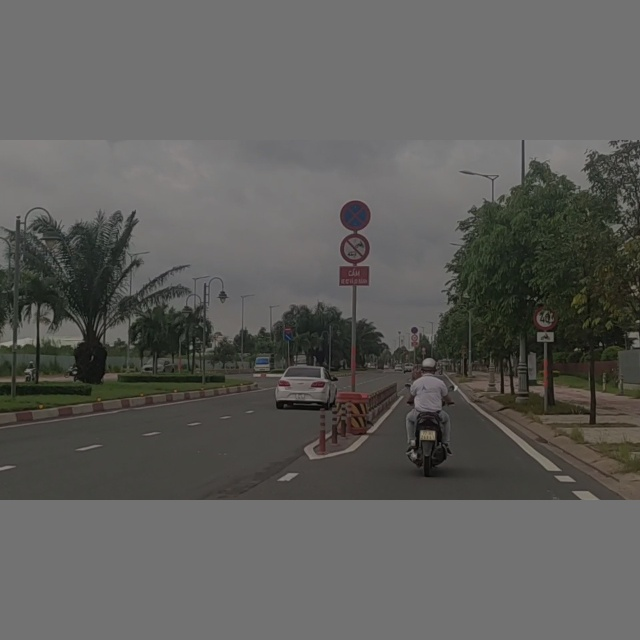P.111: (339, 231, 371, 263)
P.127*40: (531, 306, 558, 331)
P.130: (339, 199, 372, 231)
S.505a*Xe may: (533, 330, 555, 346)
